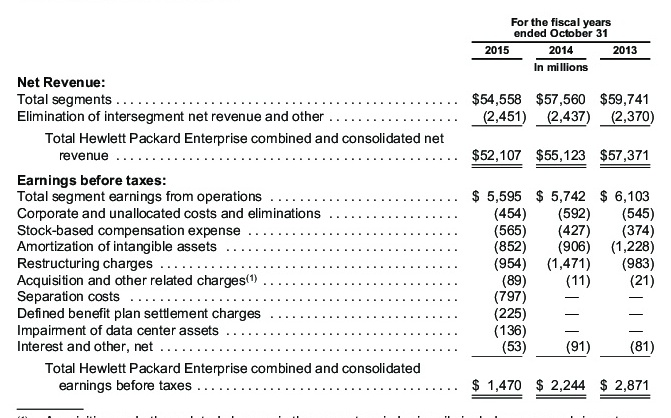table: (0, 0, 671, 418)
